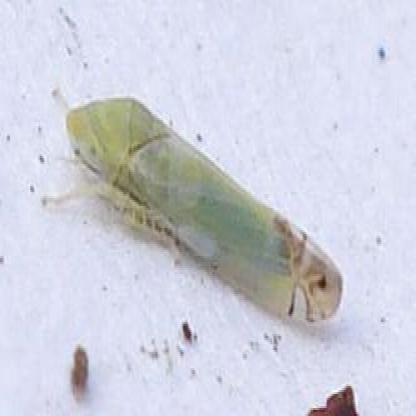green-leafhopper: (40, 98, 342, 323)
